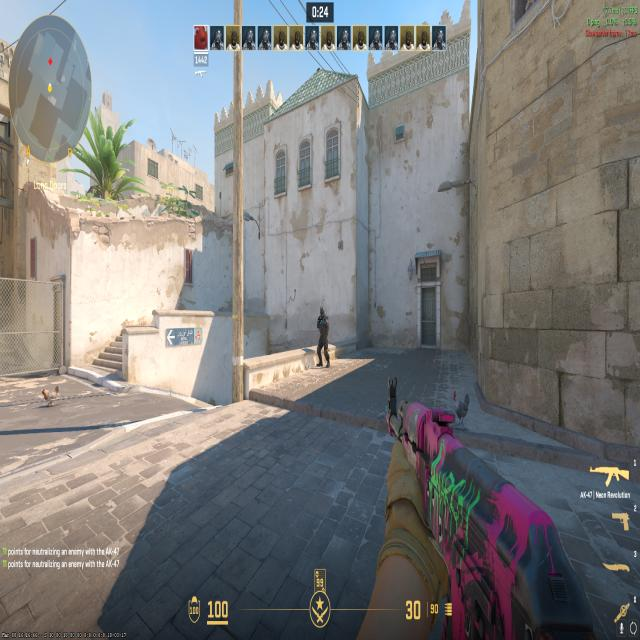ct: (313, 302, 332, 372)
